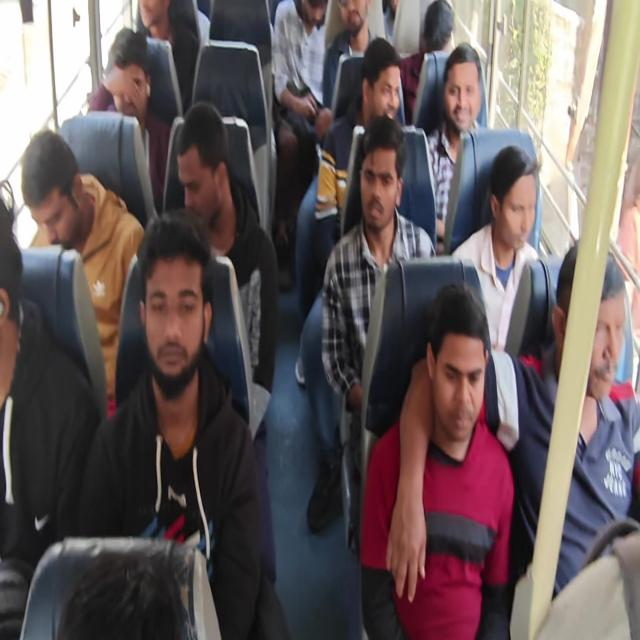person: (2, 1, 638, 638), (77, 208, 286, 638), (396, 242, 639, 600), (359, 281, 515, 638), (174, 101, 280, 584), (320, 114, 437, 530), (0, 192, 101, 638), (20, 128, 146, 418), (294, 36, 404, 320), (451, 144, 541, 358), (87, 27, 171, 214), (271, 0, 331, 248), (56, 548, 194, 639), (426, 42, 483, 246), (135, 0, 200, 111), (398, 0, 455, 125), (322, 0, 375, 114)
